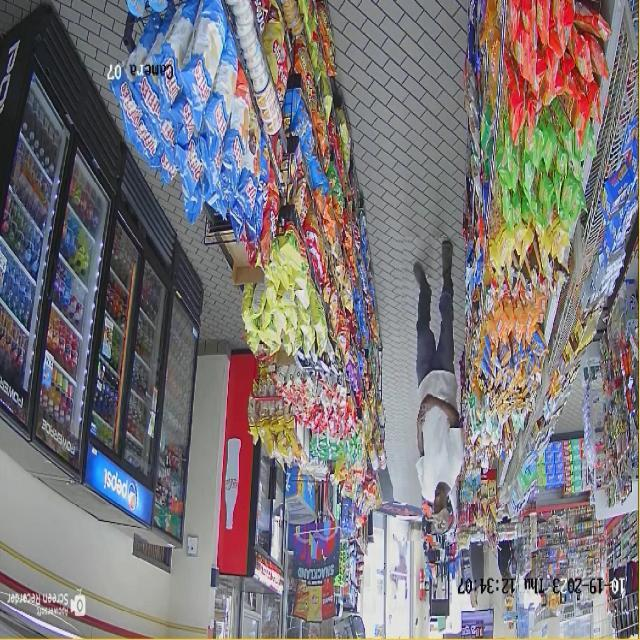Normal: (394, 237, 465, 541)
